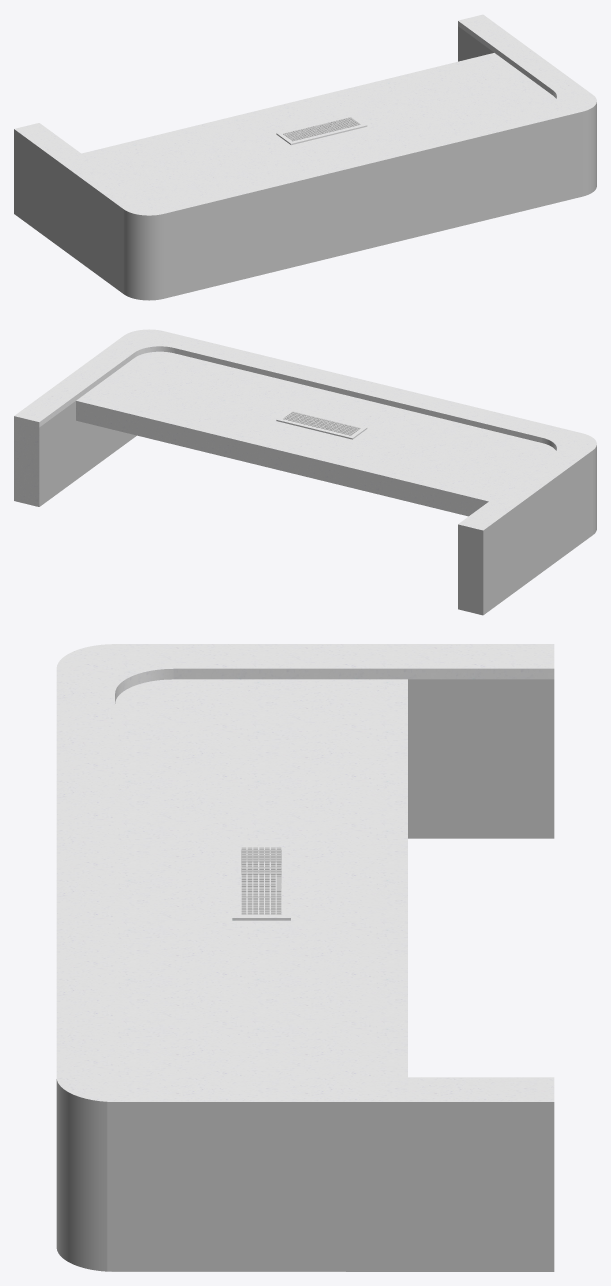
The model's file is ControlPanel.fbx.
3 renders of one model, top to bottom at view 1: azimuth 30°, elevation 25°; view 2: azimuth 150°, elevation 25°; view 3: azimuth 270°, elevation 25°, orthographic. The views are drawn at different scales.
Parts seen in each view (by area): view 1: Model, Group1, Group2; view 2: Model, Group2, Group1; view 3: Model, Group1, Group2.
Boxes of the visible parts, box(x1,y1,x2,y2) form: Model: box(14, 14, 596, 300); Group1: box(283, 117, 360, 141); Group2: box(276, 114, 367, 145); Model: box(14, 329, 596, 615); Group2: box(276, 409, 367, 439); Group1: box(283, 411, 360, 435); Model: box(56, 644, 554, 1271); Group1: box(241, 847, 281, 914); Group2: box(232, 844, 290, 920).
Bounding box in the file's own units: 18.5 × 3.2 × 8.5.
